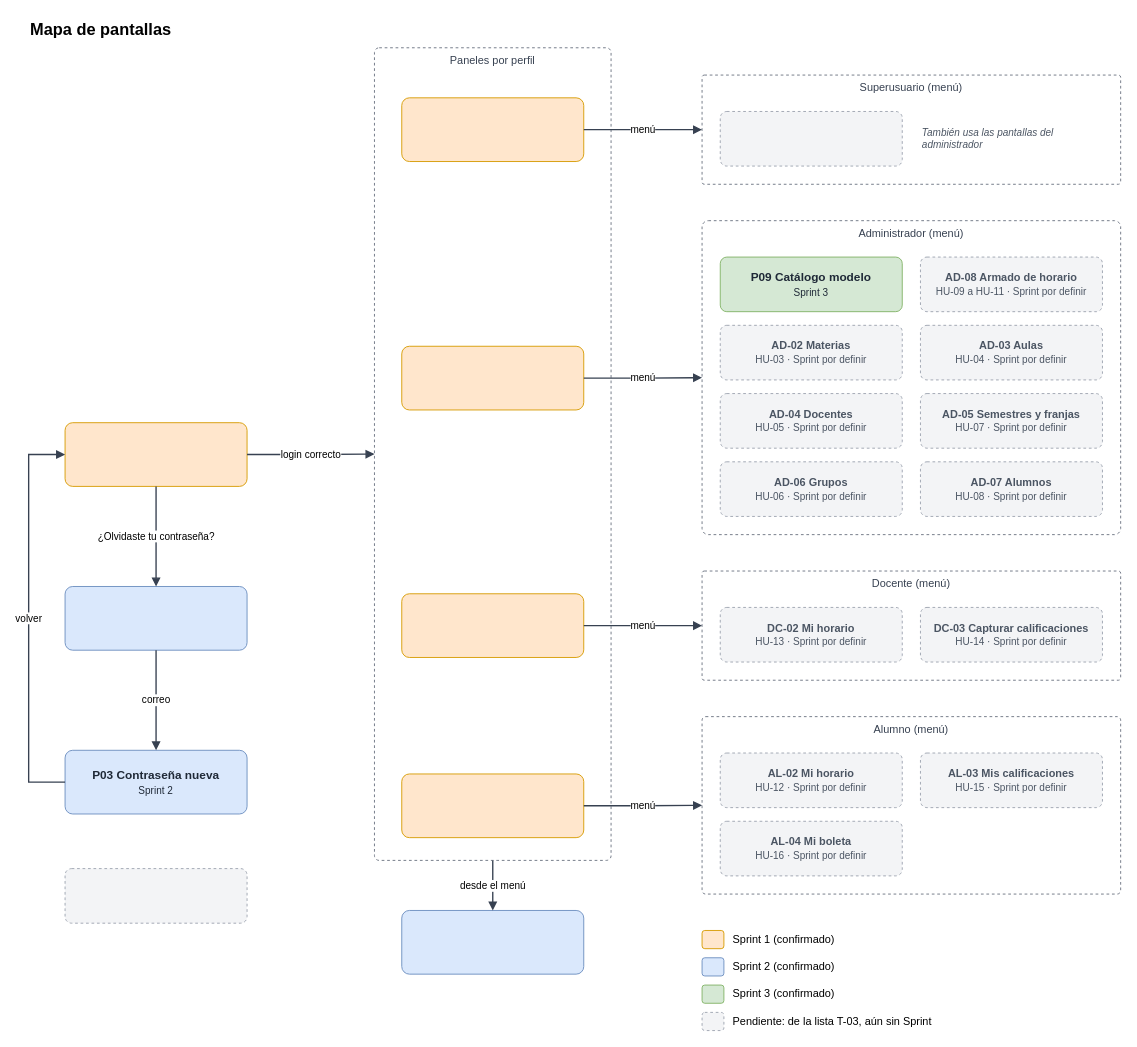
The diagram is 1137 pixels wide and 1047 high, and some of its shapes have lost their labels. The centre of each missing label's shape, as x and y in pixels:
GEN-02 Acceso denegado HU-01 · Sprint por definir: (x=155, y=895)
P01 Iniciar sesión Sprint 1: (x=155, y=454)
P02 Escribir correo Sprint 2: (x=155, y=618)
P04 Panel superusuario Sprint 1 (provisional): (x=492, y=129)
P05 Panel administrador Sprint 1 (provisional): (x=492, y=377)
P06 Panel docente Sprint 1 (provisional): (x=492, y=625)
P07 Panel alumno Sprint 1 (provisional): (x=492, y=805)
P08 Cambiar contraseña Sprint 2: (x=492, y=942)
SU-02 Administradores HU-02 · Sprint por definir: (x=810, y=138)
